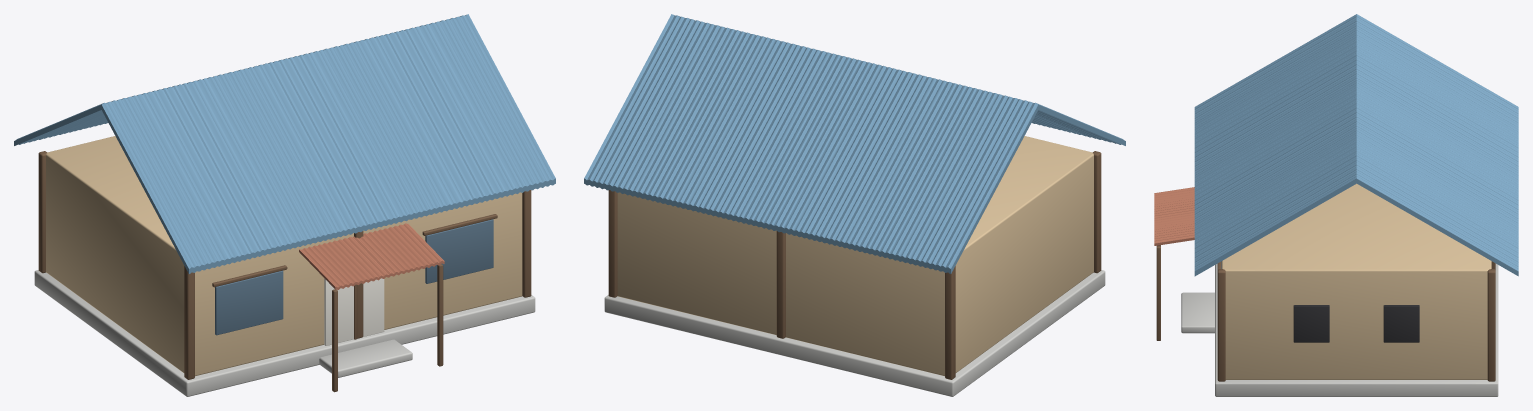
File: minka.glb
3 renders of one model, left to right at view 1: azimuth 30°, elevation 25°; view 2: azimuth 150°, elevation 25°; view 3: azimuth 270°, elevation 25°, orthographic. The views are drawn at different scales.
Parts seen in each view (by area): view 1: minka; view 2: minka; view 3: minka.
Part boxes in pixels (box(x1,y1,x2,y2)): minka: box(14, 14, 555, 396); minka: box(584, 14, 1125, 396); minka: box(1154, 14, 1518, 396).
Size of the model in its own units: 8.72 by 5.46 by 8.1.
